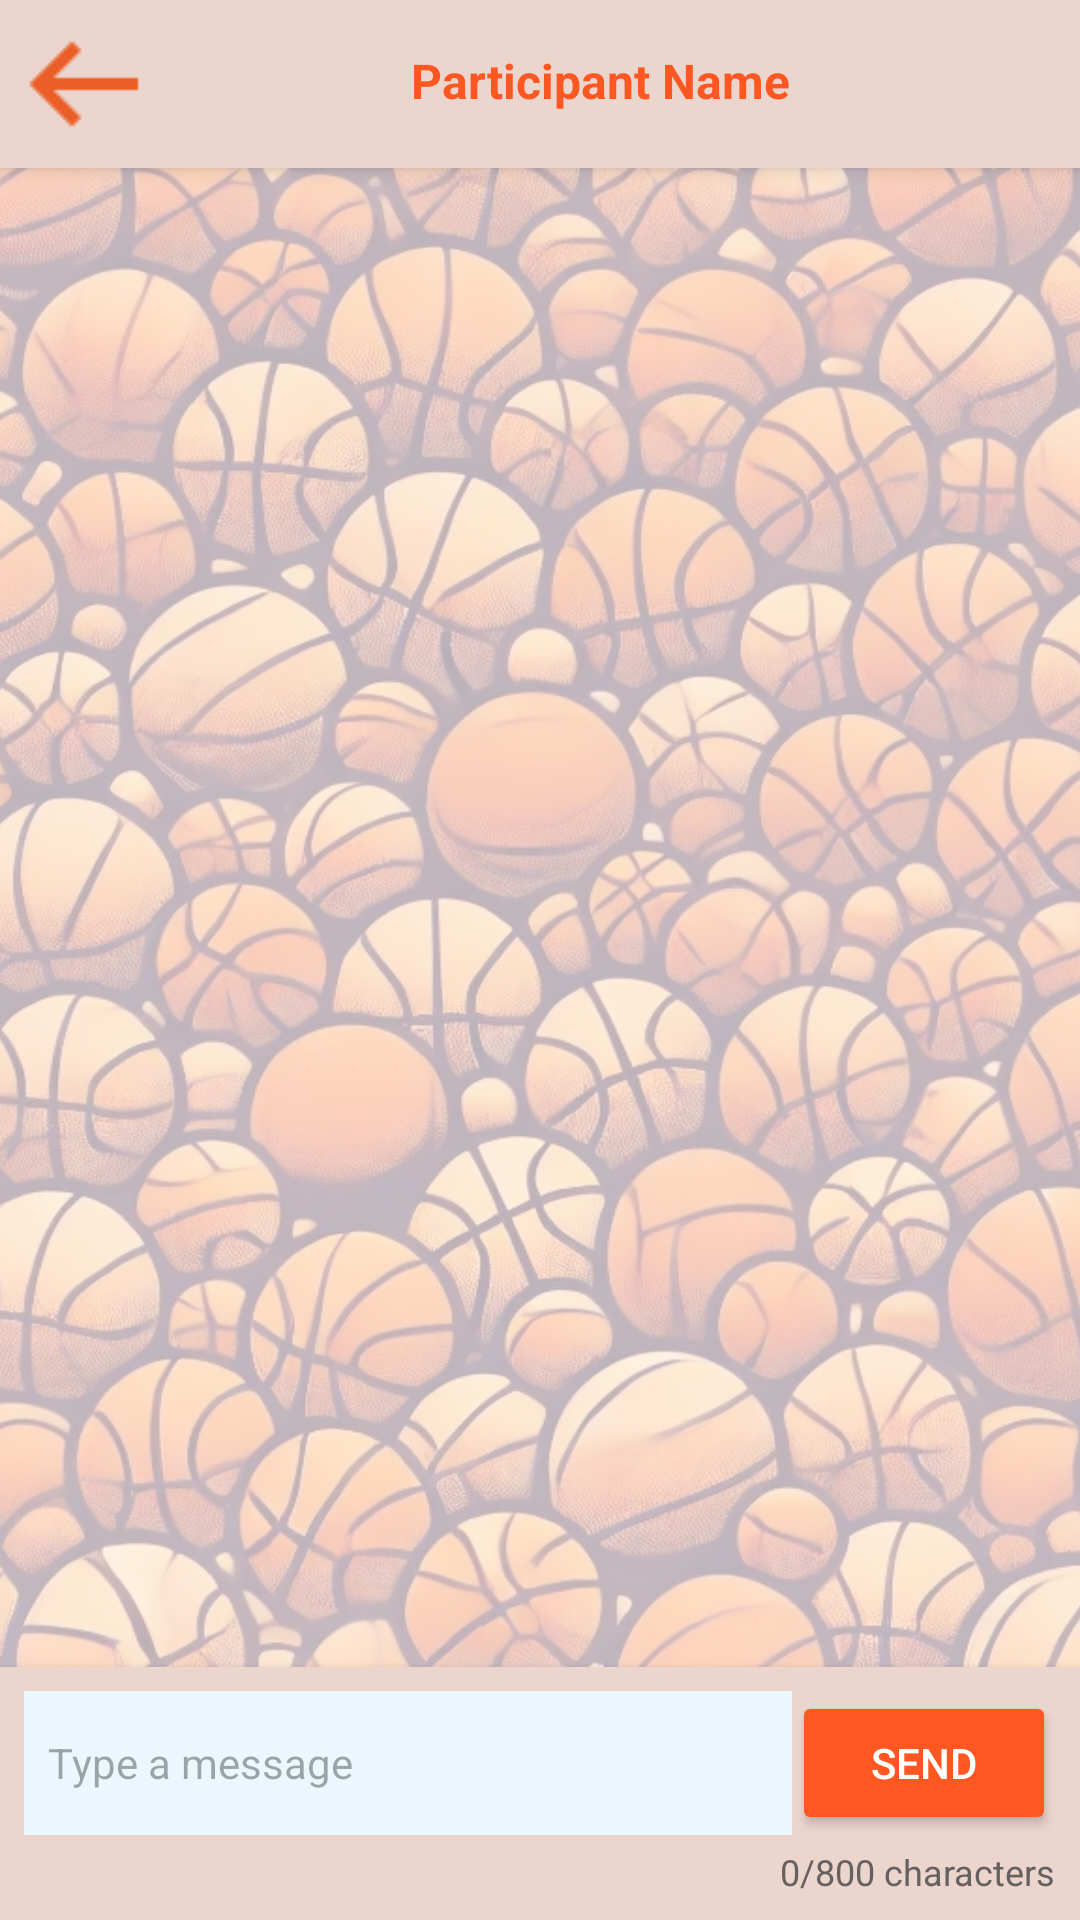

Icon click points for this 1080×1920 phone screenshot, format (x=x, y=y):
Back: (x=84, y=84)
